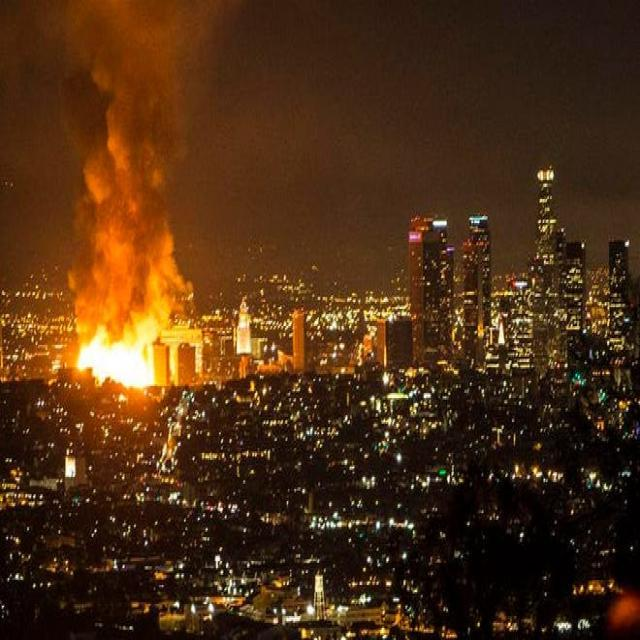Fire: (82, 331, 111, 372), (116, 344, 144, 384)
Smoke: (118, 16, 171, 148)
